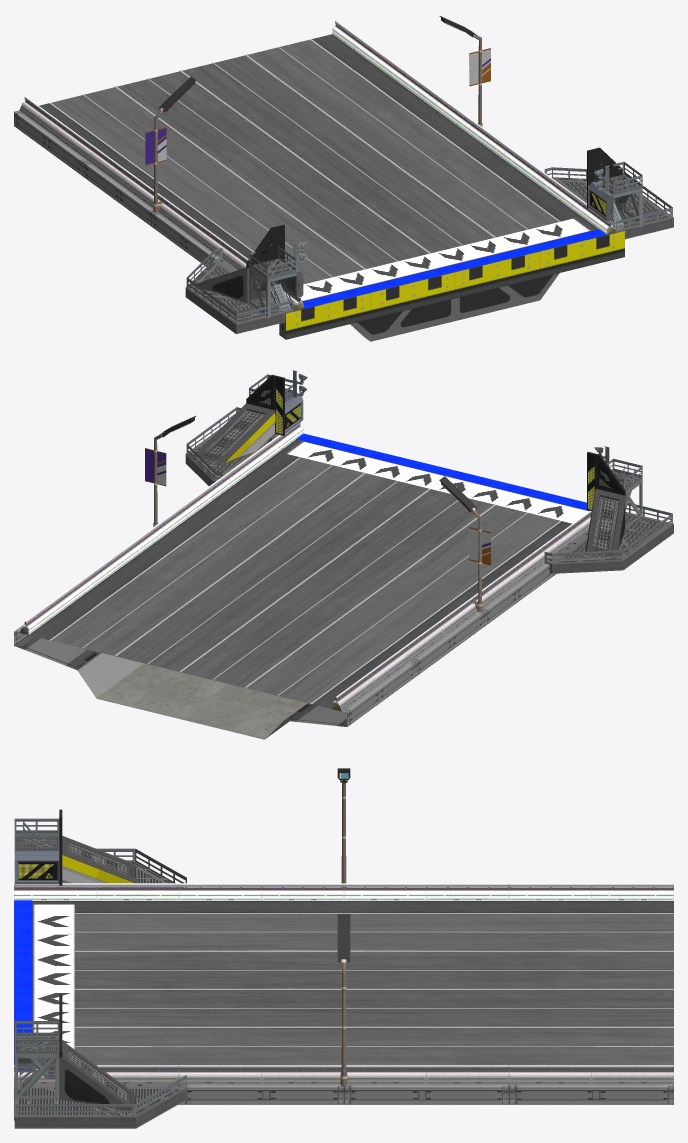
File: T1 - Jump.fbx
3 views of the same model, one above another, from view 1: azimuth 30°, elevation 25°; view 2: azimuth 150°, elevation 25°; view 3: azimuth 270°, elevation 25° (orthographic). The views are drawn at different scales.
Visible parts, largest first — view 1: standard_road, frontplate_jump, gate, flt_lines_jump, wall_straight_elevated, barrier_elevated2, standard_bridge, pro_streetlight_banner_1, pro_streetlight_banner; view 2: standard_road, standard_bridge, gate, flt_lines_jump, wall_straight_elevated, barrier_elevated2, pro_streetlight_banner_1, pro_streetlight_banner; view 3: standard_road, gate, flt_lines_jump, barrier_elevated2, wall_straight_elevated, standard_bridge, pro_streetlight_banner, pro_streetlight_banner_1.
Part boxes in pixels (bbox=[...]): standard_road: bbox=[39, 34, 606, 308]; frontplate_jump: bbox=[279, 230, 624, 341]; gate: bbox=[185, 147, 673, 334]; flt_lines_jump: bbox=[82, 46, 606, 308]; wall_straight_elevated: bbox=[19, 21, 612, 311]; barrier_elevated2: bbox=[25, 20, 616, 311]; standard_bridge: bbox=[14, 110, 219, 266]; pro_streetlight_banner_1: bbox=[145, 76, 196, 212]; pro_streetlight_banner: bbox=[439, 16, 490, 126]; standard_road: bbox=[29, 439, 571, 708]; standard_bridge: bbox=[14, 563, 556, 739]; gate: bbox=[185, 370, 673, 573]; flt_lines_jump: bbox=[82, 433, 589, 695]; wall_straight_elevated: bbox=[23, 423, 591, 711]; barrier_elevated2: bbox=[19, 422, 591, 711]; pro_streetlight_banner_1: bbox=[439, 476, 490, 612]; pro_streetlight_banner: bbox=[145, 416, 196, 526]; standard_road: bbox=[32, 901, 673, 1069]; gate: bbox=[14, 809, 187, 1128]; flt_lines_jump: bbox=[14, 900, 673, 1069]; barrier_elevated2: bbox=[14, 883, 673, 1071]; wall_straight_elevated: bbox=[14, 890, 673, 1084]; standard_bridge: bbox=[178, 1084, 673, 1104]; pro_streetlight_banner: bbox=[337, 914, 350, 1085]; pro_streetlight_banner_1: bbox=[337, 768, 350, 887].
Size of the model in its own units: 5885 by 2217 by 6400.
